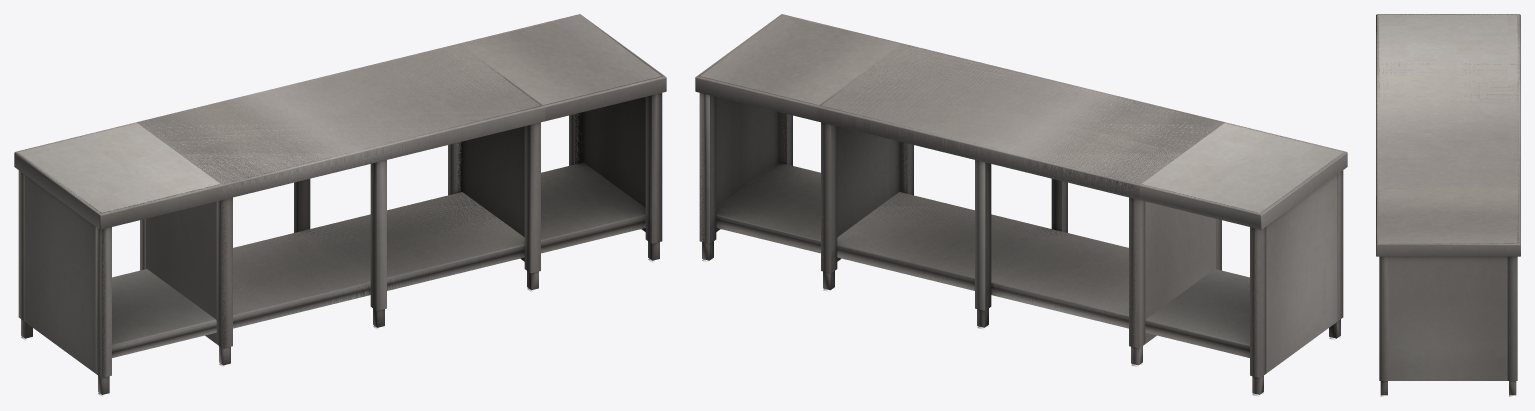
Rendered from gastro_tische.fbx.
The picture shows the model from 3 angles, left to right: view 1: azimuth 30°, elevation 25°; view 2: azimuth 150°, elevation 25°; view 3: azimuth 270°, elevation 25°; orthographic projection. The views are drawn at different scales.
Parts seen in each view (by area): view 1: tisch_klein_01, tisch_gross_02, tisch_gross_01, tisch_klein_02; view 2: tisch_klein_01, tisch_gross_02, tisch_gross_01, tisch_klein_02; view 3: tisch_gross_01, tisch_gross_02, tisch_klein_01.
Boxes of the visible parts, <box> form: tisch_klein_01: <box>137,44,545,366</box>; tisch_gross_02: <box>14,14,666,396</box>; tisch_gross_01: <box>15,14,662,396</box>; tisch_klein_02: <box>137,46,543,367</box>; tisch_klein_01: <box>816,44,1224,366</box>; tisch_gross_02: <box>695,14,1347,396</box>; tisch_gross_01: <box>699,14,1345,395</box>; tisch_klein_02: <box>818,44,1223,367</box>; tisch_gross_01: <box>1377,14,1519,380</box>; tisch_gross_02: <box>1376,14,1520,396</box>; tisch_klein_01: <box>1376,64,1520,194</box>.
Size of the model in its own units: 289 by 89.93 by 76.47.
